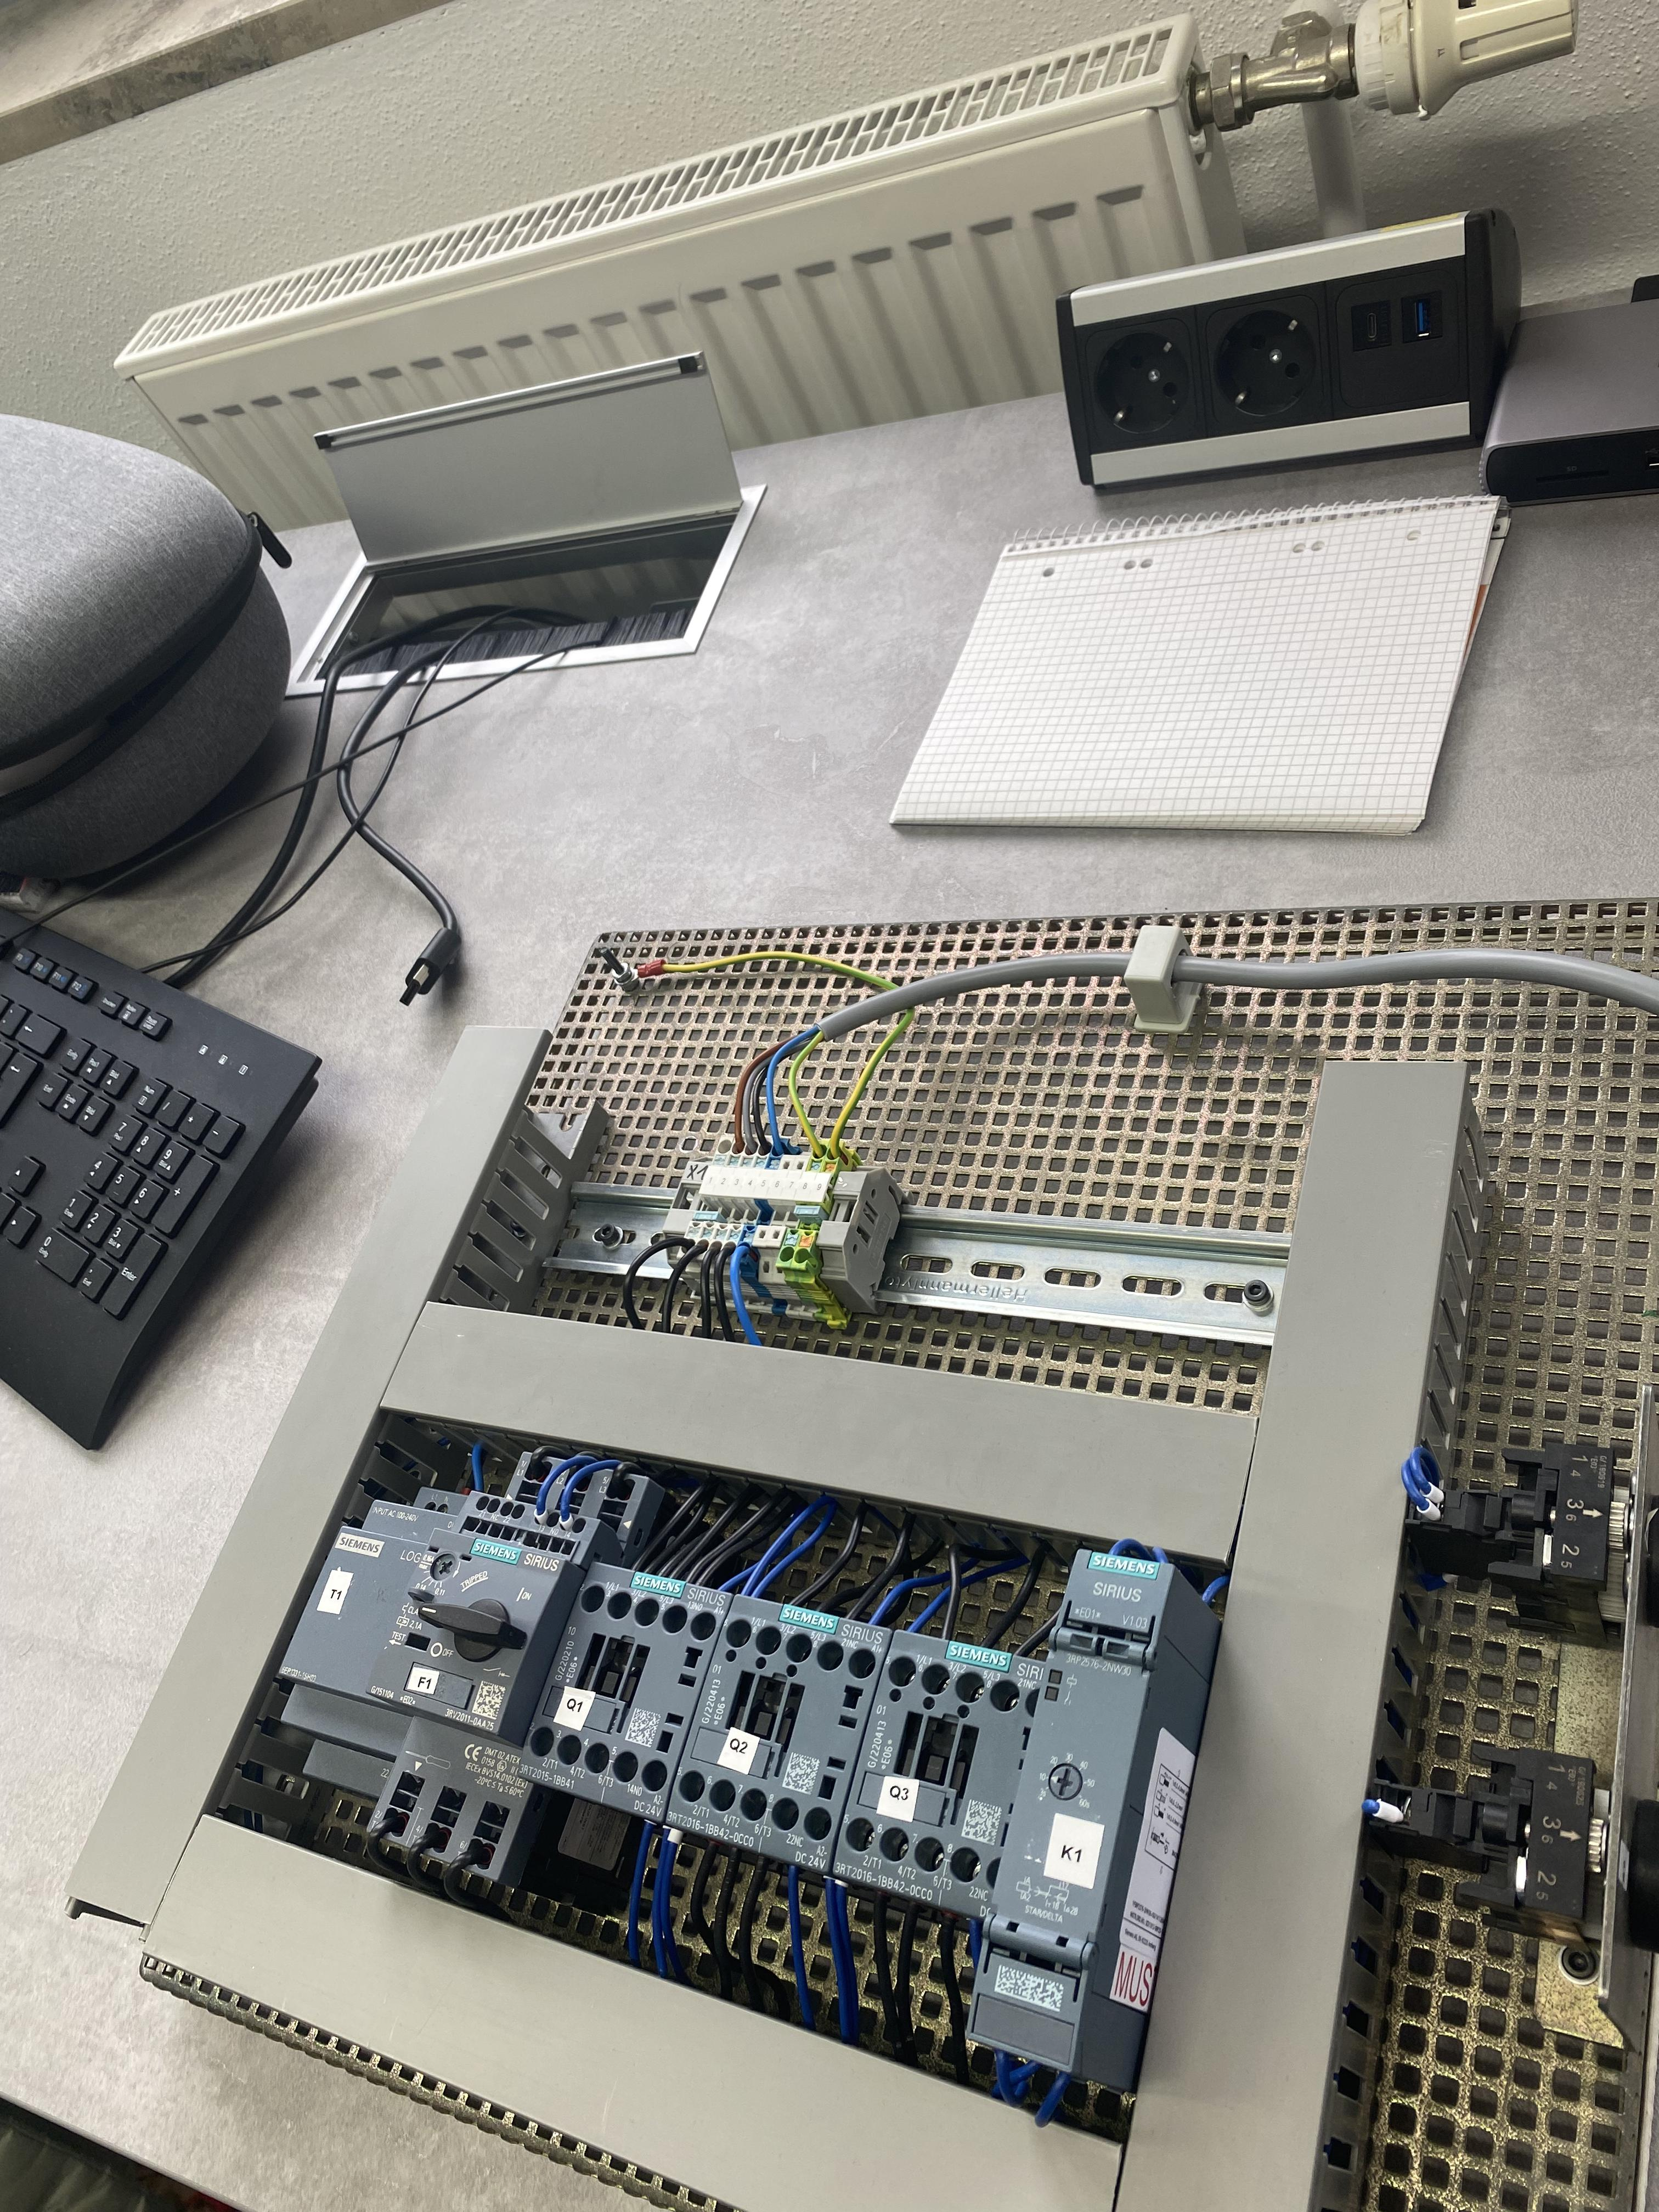F1: (368, 1451, 650, 1878)
K1: (964, 1547, 1173, 2073)
Q: (516, 1561, 732, 1820)
Q2: (664, 1597, 892, 1874)
Q3: (830, 1629, 1049, 1919)
T1: (277, 1487, 472, 1801)
X1: (662, 1134, 885, 1278)
